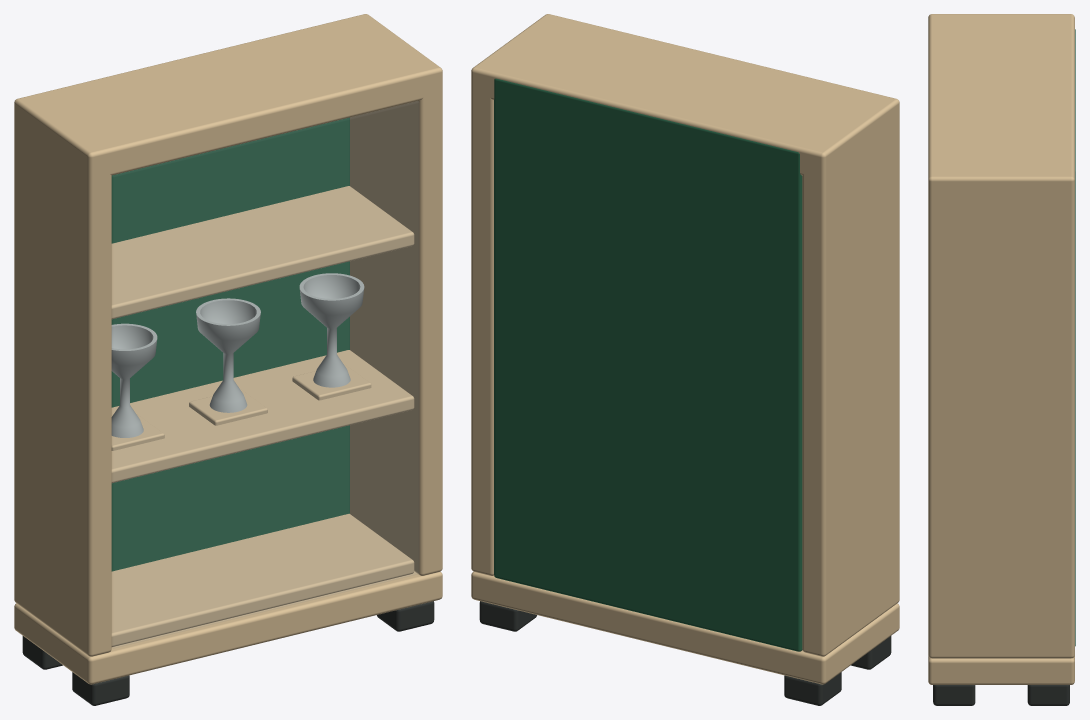
The model's file is cricket-ground-and-pavilion-pavilion-trophy-cabinet-c1d51651__31357.glb.
The picture shows the model from 3 angles, left to right: view 1: azimuth 30°, elevation 25°; view 2: azimuth 150°, elevation 25°; view 3: azimuth 270°, elevation 25°; orthographic projection. The views are drawn at different scales.
Visible parts, largest first — view 1: pavilion-trophy-cabinet; view 2: pavilion-trophy-cabinet; view 3: pavilion-trophy-cabinet.
Boxes of the visible parts, x1,y1,x2,y2 form: pavilion-trophy-cabinet: (14, 14, 442, 705); pavilion-trophy-cabinet: (471, 14, 899, 705); pavilion-trophy-cabinet: (928, 14, 1075, 705).
Bounding box in the file's own units: 1.2 × 1.8 × 0.4526.
